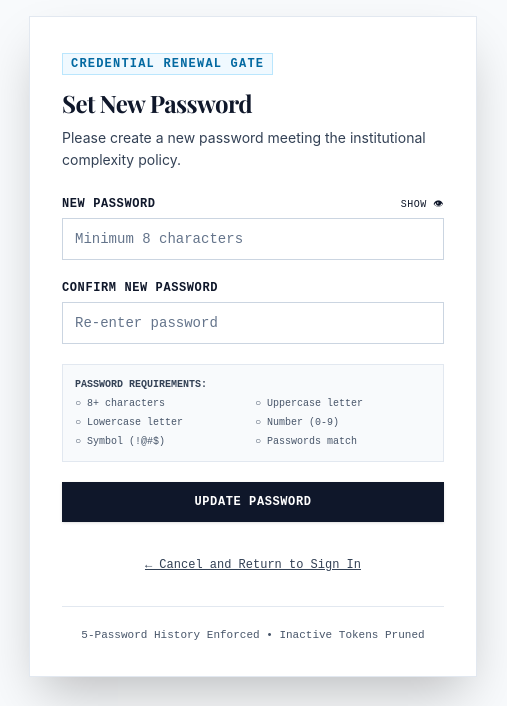
Test case: ResetPassword Page (TDD Suite) › submits valid password reset and displays success banner
In the password field with placeholder "Minimum 8 characters": (253, 239) x1=62 y1=218 x2=444 y2=260, type "HospitalPass2026!"
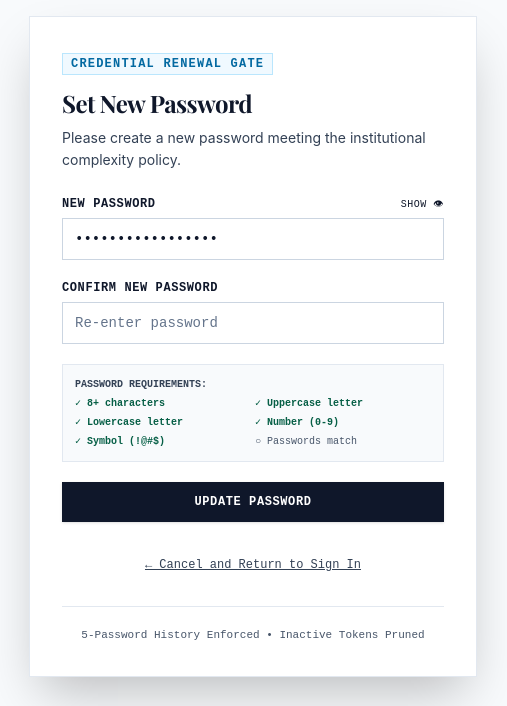
In the password field with placeholder "Re-enter password": (253, 323) x1=62 y1=302 x2=444 y2=344, type "HospitalPass2026!"
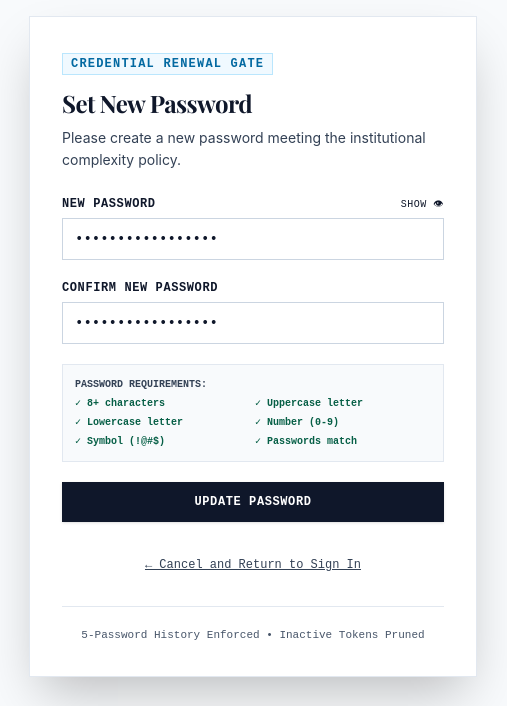
Click the button "Update Password": (253, 502) x1=62 y1=482 x2=444 y2=522
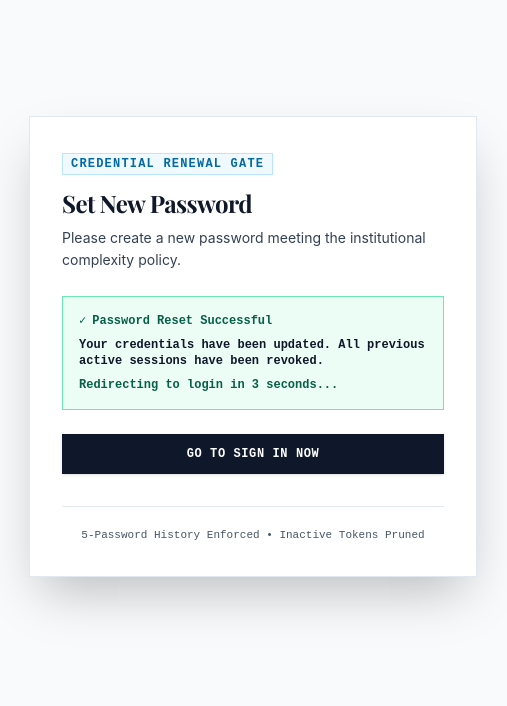
Expected: the text "✓ Password Reset Successful" is shown, x1=79 y1=314 x2=272 y2=328
Expected: the text "All previous active sessions have been revoked" is shown, x1=79 y1=338 x2=425 y2=368
Expected: the link "Go to Sign In Now" is shown, x1=62 y1=434 x2=444 y2=474
